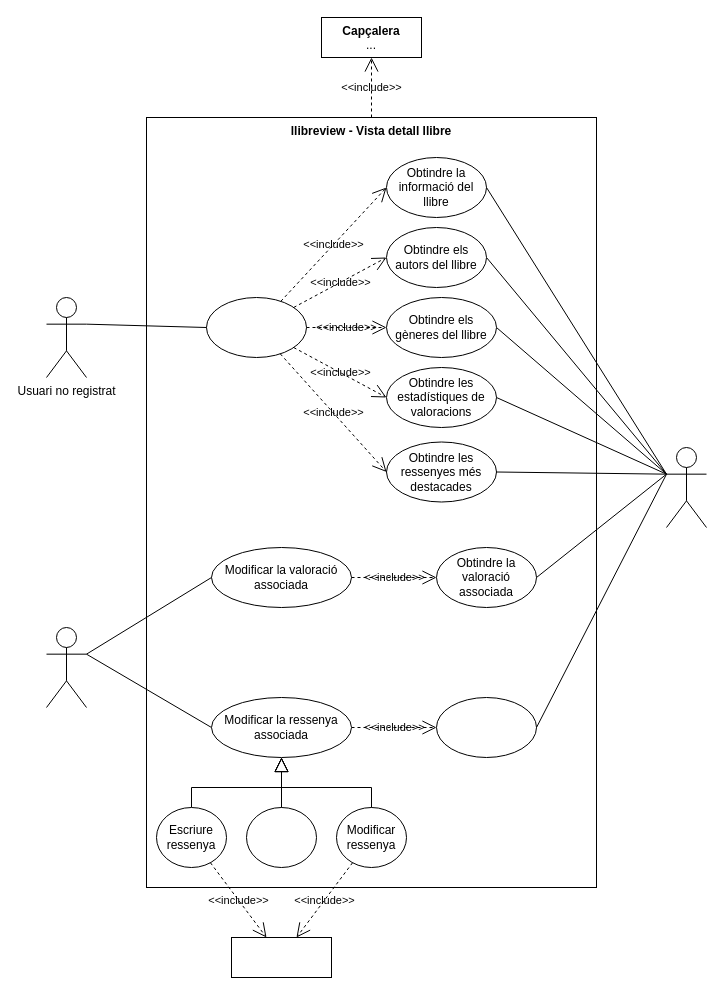
The diagram is 726 pixels wide and 995 high, and some of its shapes have lost their labels. Each missing label, with the centre of its shape:
Client registrat: the point at 66,667
Eliminar ressenya: the point at 281,837
Obtindre la ressenya associada: the point at 486,727
Ressenya ...: the point at 281,957
Servidor: the point at 686,487
Visualitzar informació del llibre: the point at 256,327
